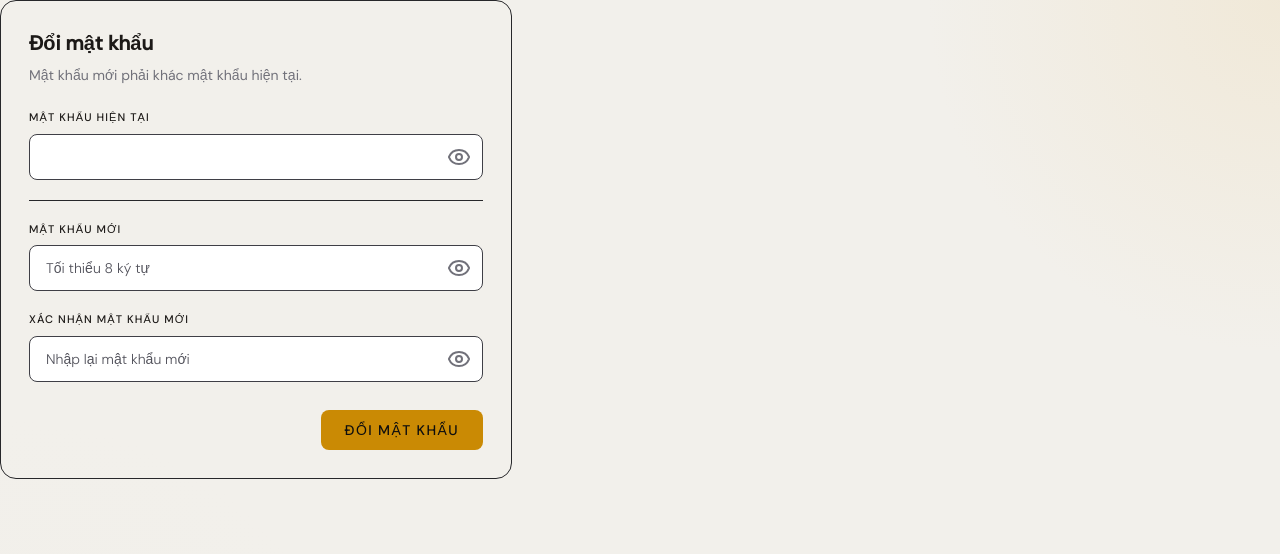
Test case: ChangePasswordForm › should show error when new password is shorter than 8 characters
The width and height of the screenshot is (1280, 554).
Type "oldPassword1" into the 1st password field at point(256, 156), box [29,134,483,180]
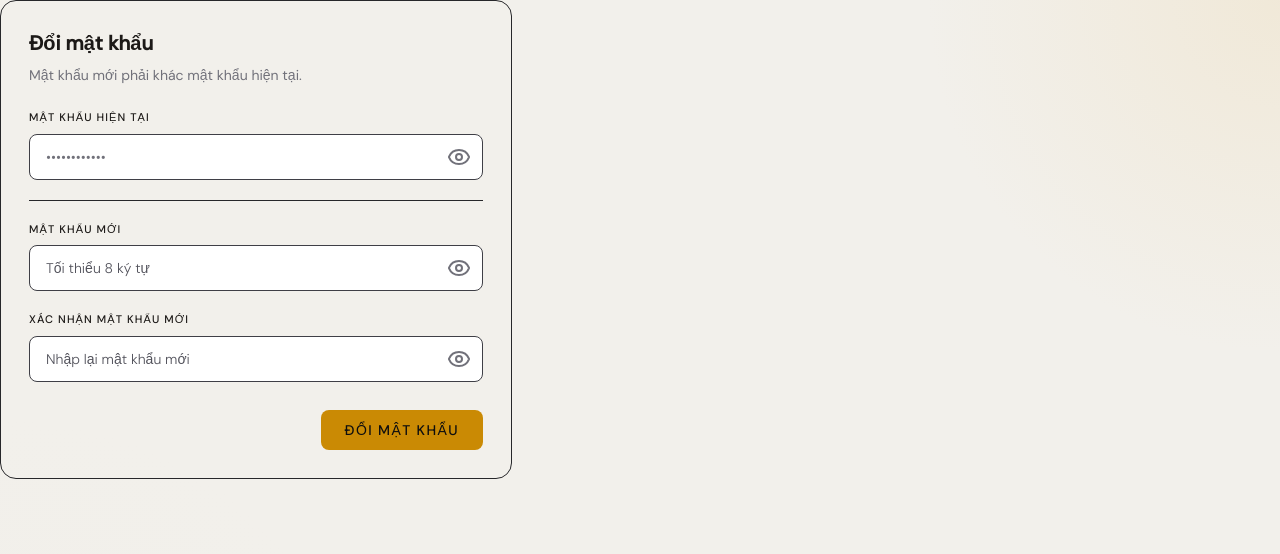
Type "Aa1" into the password field with placeholder "Tối thiểu 8 ký tự" at point(256, 268), box [29,245,483,291]
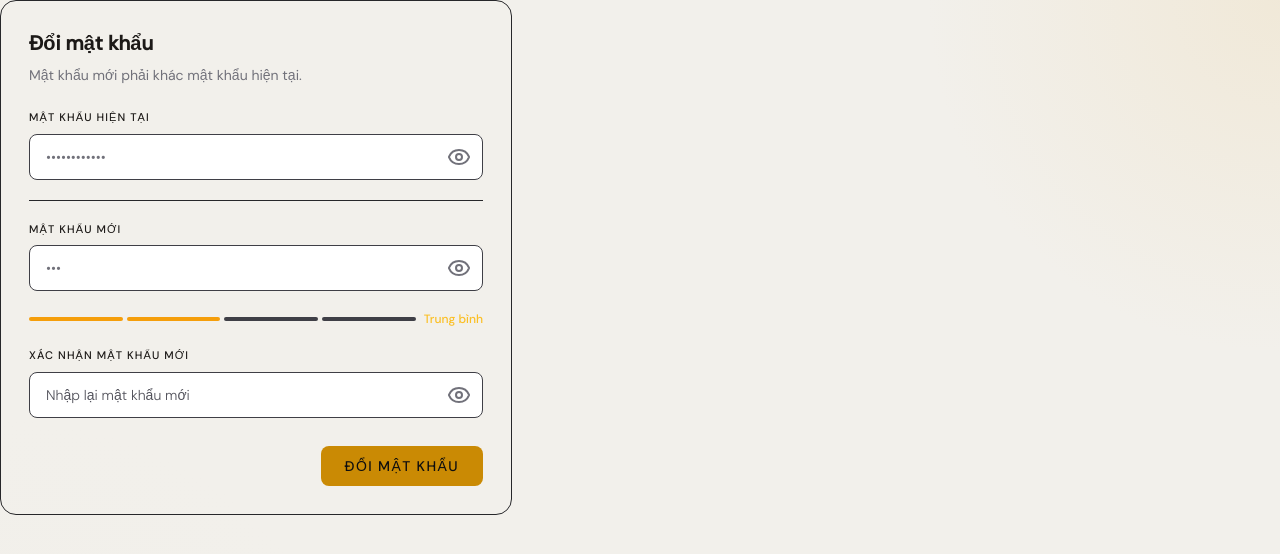
Type "Aa1" into the password field with placeholder "Nhập lại mật khẩu mới" at point(256, 394), box [29,372,483,418]
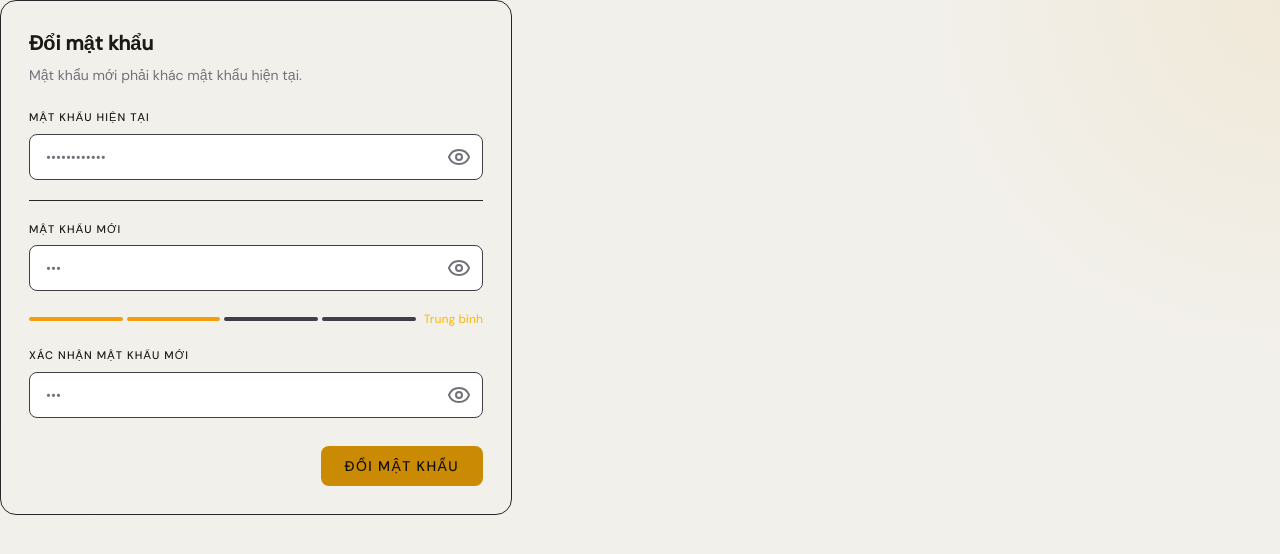
Click the button "Đổi mật khẩu" at point(402, 466), box [321,446,483,486]
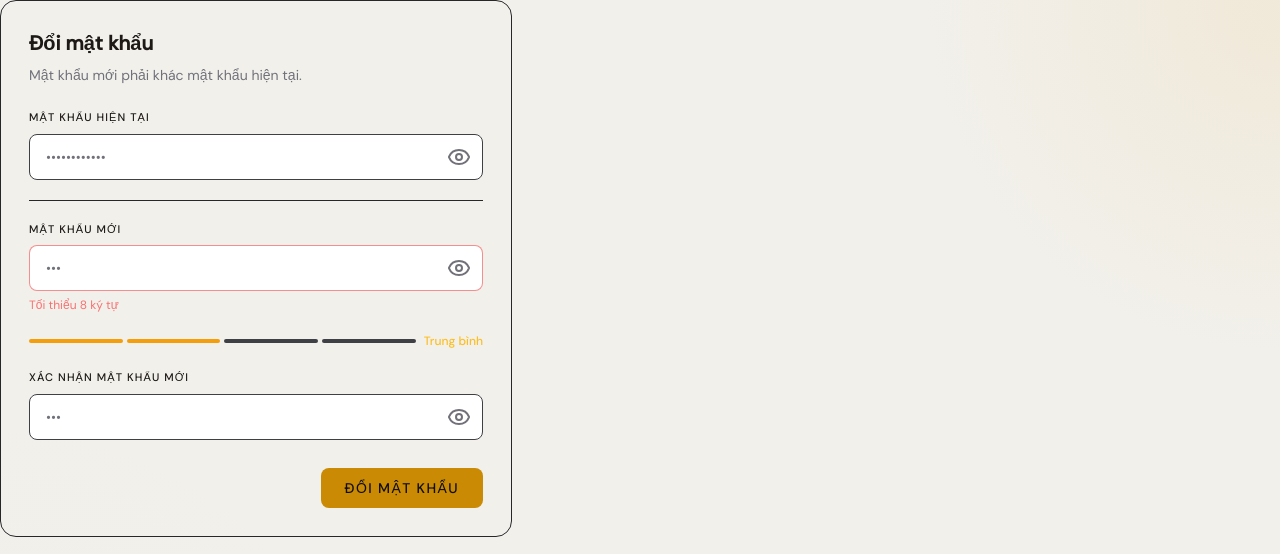
Expected: the text "Tối thiểu 8 ký tự" is shown, [29,297,119,313]
